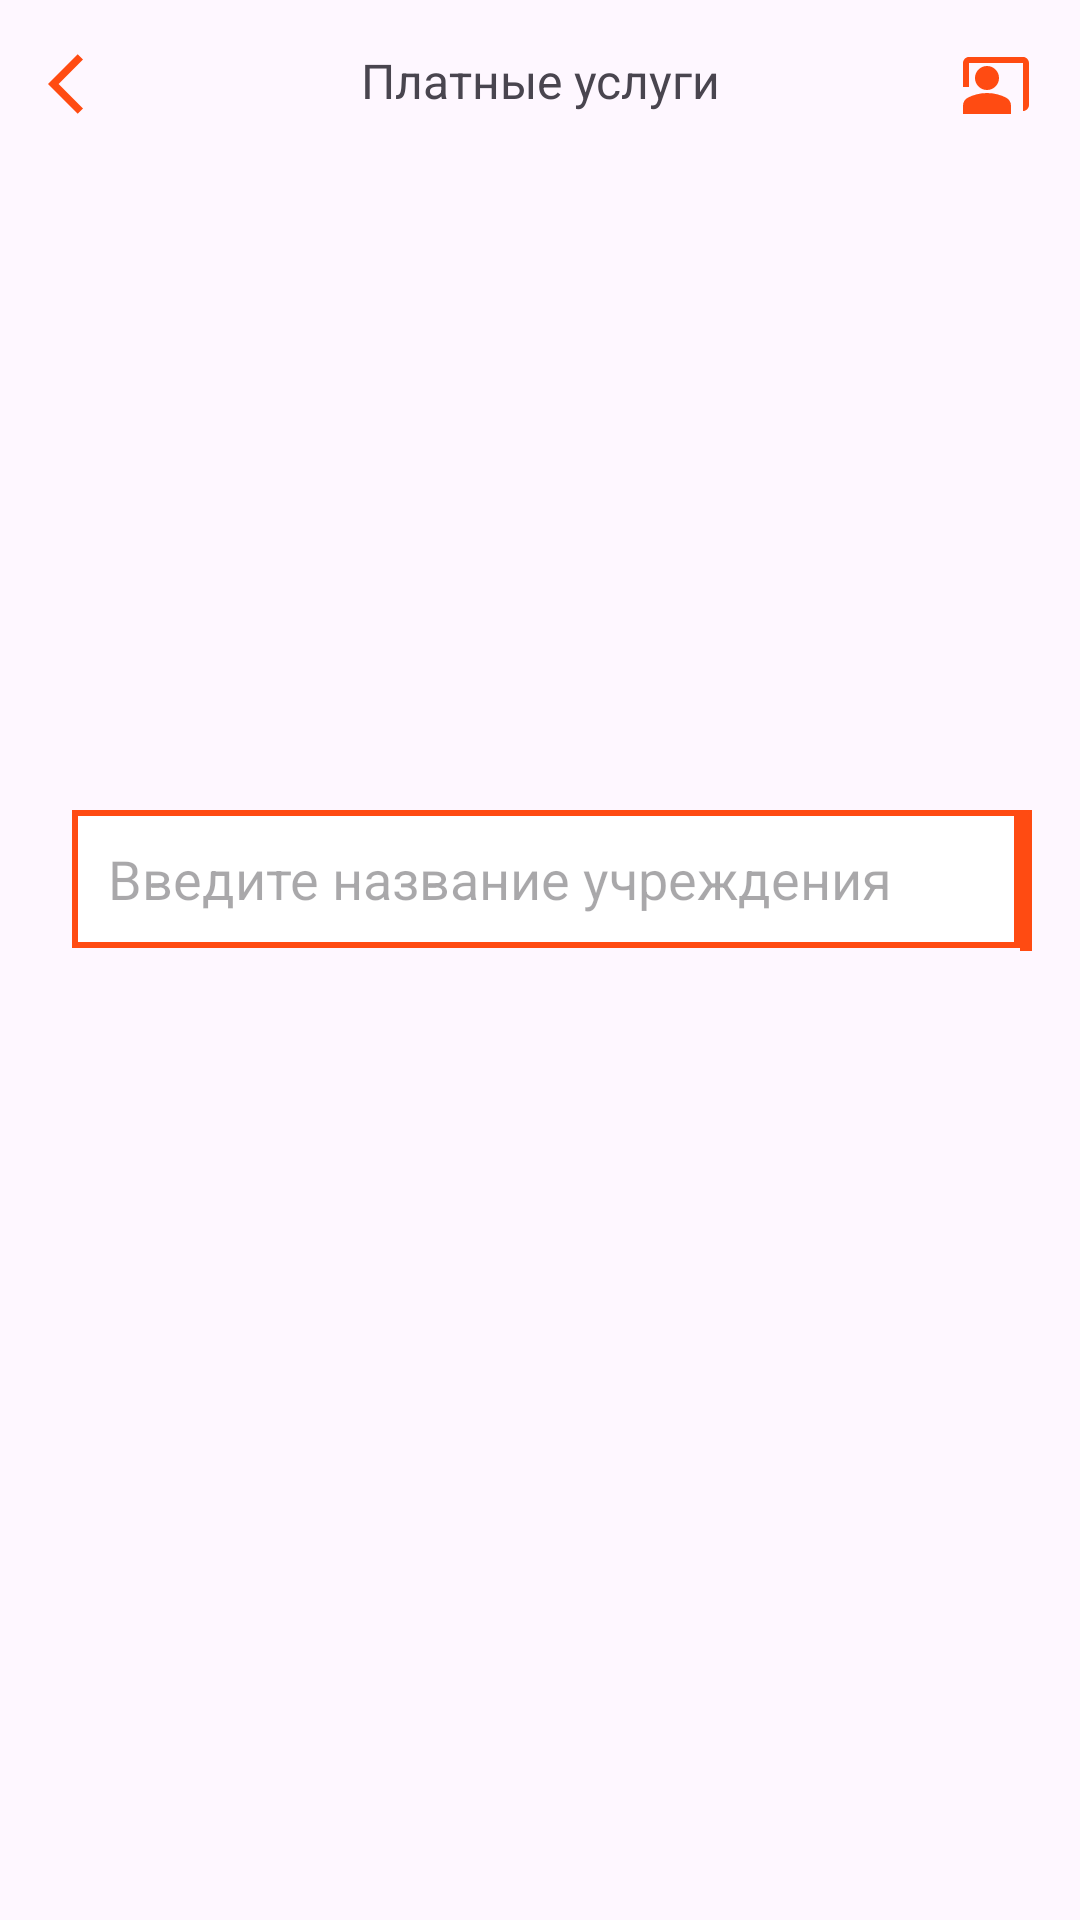

Screen size 1080 × 1920. Icon name, then its box in pixels as (x1, y1, x2, y2):
Назад: (48, 54, 83, 114)
Профиль: (963, 57, 1029, 114)
